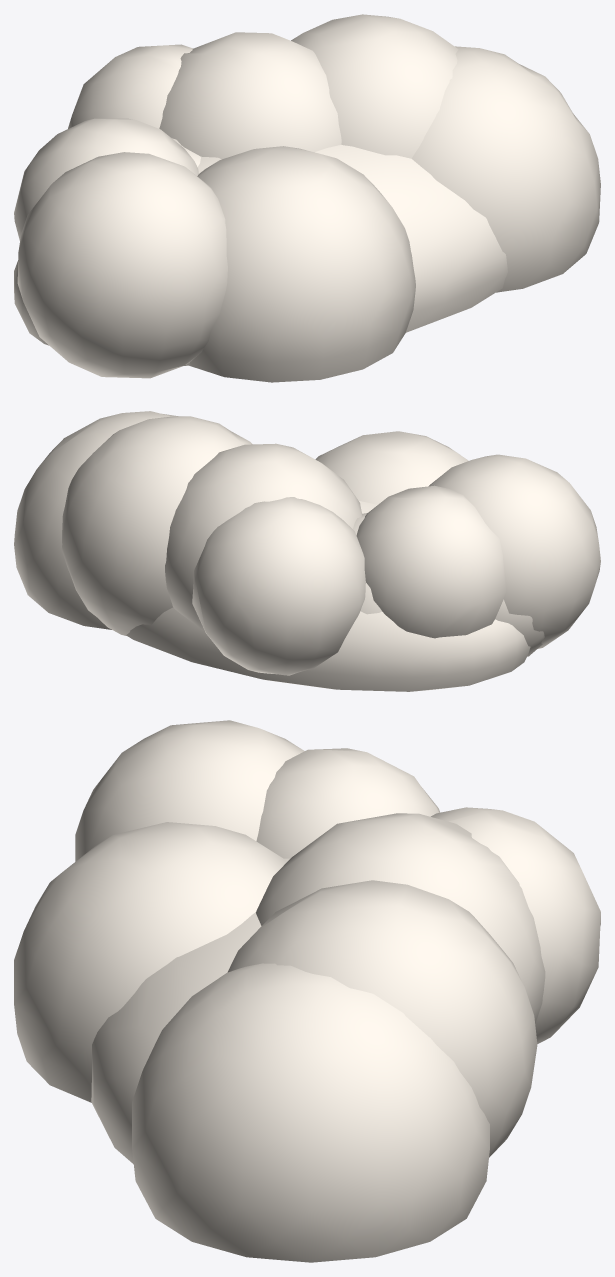
The model's file is cloud.glb.
3 renders of one model, top to bottom at view 1: azimuth 30°, elevation 25°; view 2: azimuth 150°, elevation 25°; view 3: azimuth 270°, elevation 25°, orthographic. The views are drawn at different scales.
Visible parts, largest first — view 1: cloud; view 2: cloud; view 3: cloud.
Boxes of the visible parts, x1=… form: cloud: x1=14, y1=14, x2=600, y2=382; cloud: x1=14, y1=411, x2=600, y2=691; cloud: x1=14, y1=720, x2=600, y2=1262.
Bounding box in the file's own units: 15.05 × 5.14 × 10.48.
1 material, 1 textured.
